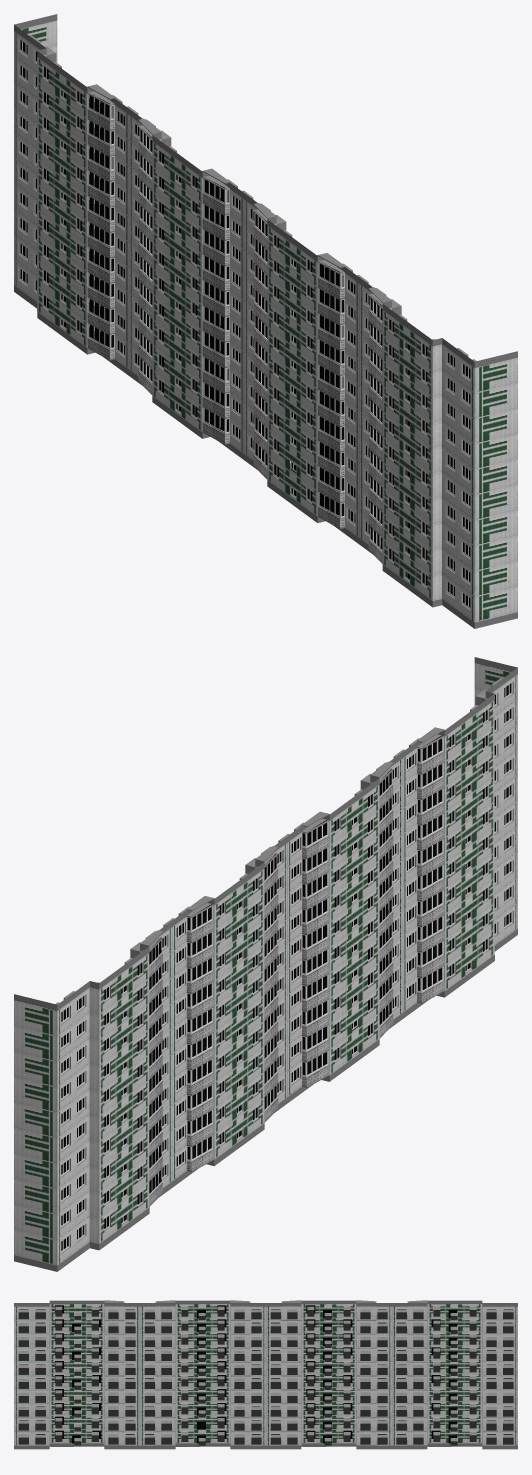
The model's file is Zdanye.fbx.
3 renders of one model, top to bottom at view 1: azimuth 30°, elevation 25°; view 2: azimuth 150°, elevation 25°; view 3: azimuth 270°, elevation 25°, orthographic. The views are drawn at different scales.
Parts seen in each view (by area): view 1: Zdanye, Steklo, Steklo.003, Steklo.002, Zdanye.001; view 2: Zdanye, Steklo.002, Steklo, Steklo.003, Zdanye.001; view 3: Zdanye, Steklo.003, Steklo, Steklo.002, Zdanye.001.
Part boxes in pixels (x1,y1,x2,y2): Zdanye: (14, 14, 517, 628); Steklo: (307, 259, 470, 607); Steklo.003: (159, 151, 296, 472); Steklo.002: (20, 40, 152, 381); Zdanye.001: (270, 457, 300, 510); Zdanye: (14, 657, 517, 1271); Steklo.002: (61, 904, 212, 1250); Steklo: (368, 683, 511, 1035); Steklo.003: (219, 817, 358, 1144); Zdanye.001: (332, 1026, 362, 1078); Zdanye: (14, 1300, 517, 1449); Steklo.003: (197, 1305, 352, 1443); Steklo: (19, 1305, 153, 1443); Steklo.002: (377, 1309, 512, 1443); Zdanye.001: (194, 1429, 226, 1446).
Size of the model in its own units: 588 by 2857 by 8896.
4 materials, 1 textured.
